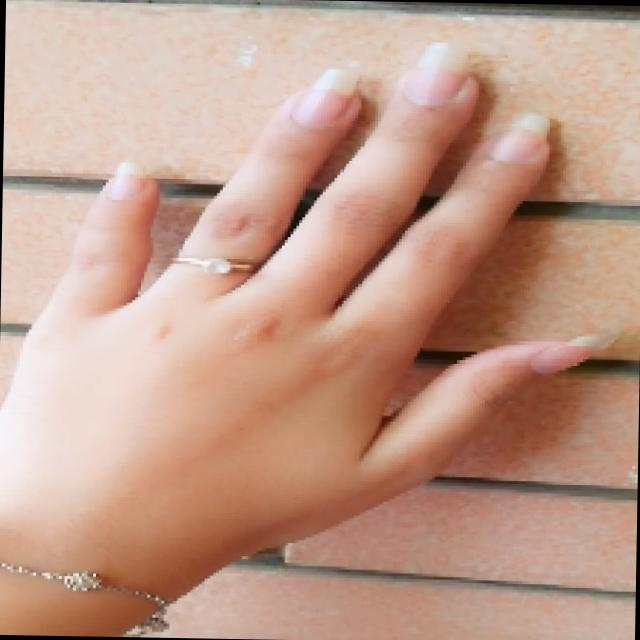Nail: (291, 68, 358, 127), (405, 42, 467, 105), (530, 331, 617, 374), (490, 113, 549, 163), (102, 162, 142, 200)
